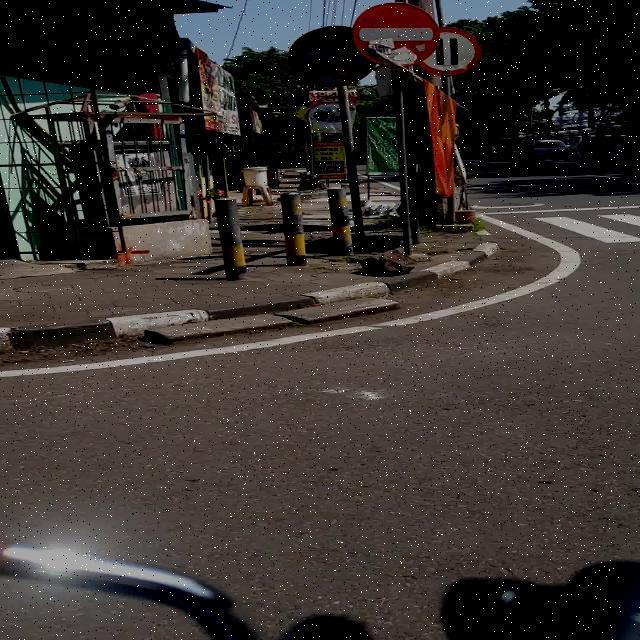Larangan Muatan - 10 ton: (438, 27, 481, 74)
